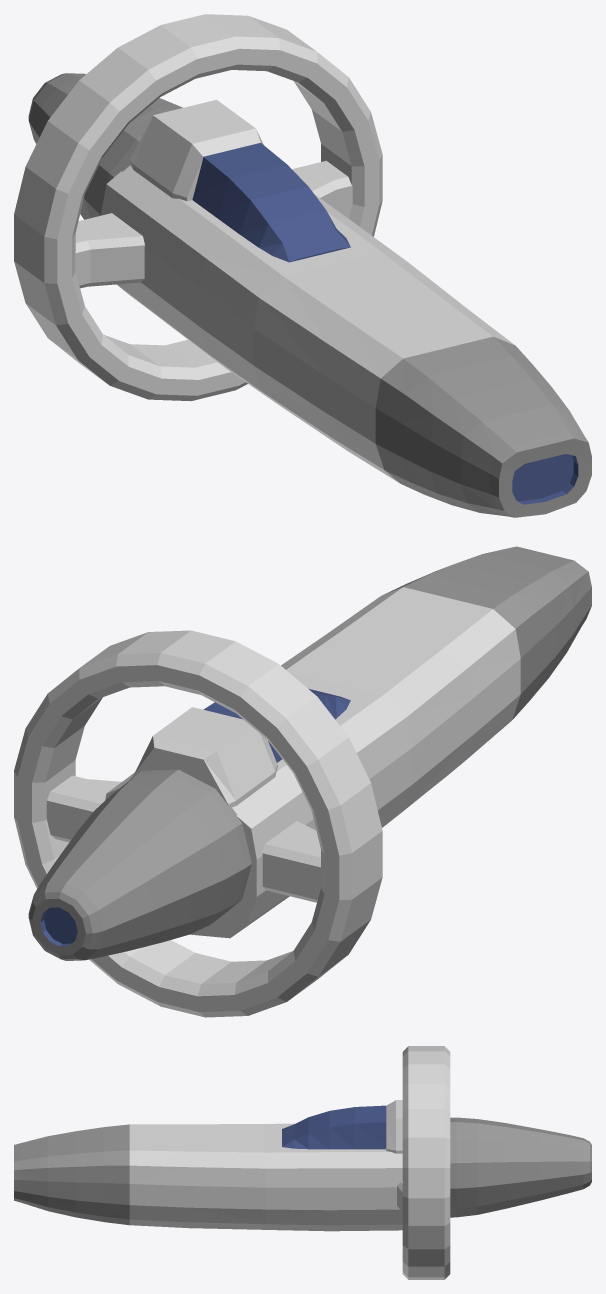
Rendered from hull_cube.obj.
3 views of the same model, one above another, from view 1: azimuth 30°, elevation 25°; view 2: azimuth 150°, elevation 25°; view 3: azimuth 270°, elevation 25° (orthographic). The views are drawn at different scales.
Parts seen in each view (by area): view 1: object 2, ring; view 2: object 2, ring; view 3: object 2, ring.
Boxes of the visible parts, x1=… form: object 2: x1=28, y1=73, x2=591, y2=517; ring: x1=14, y1=14, x2=382, y2=401; object 2: x1=28, y1=546, x2=591, y2=960; ring: x1=14, y1=630, x2=382, y2=1017; object 2: x1=14, y1=1100, x2=591, y2=1231; ring: x1=402, y1=1046, x2=450, y2=1279.
Bounding box in the file's own units: 1.65 × 1.65 × 4.1.
